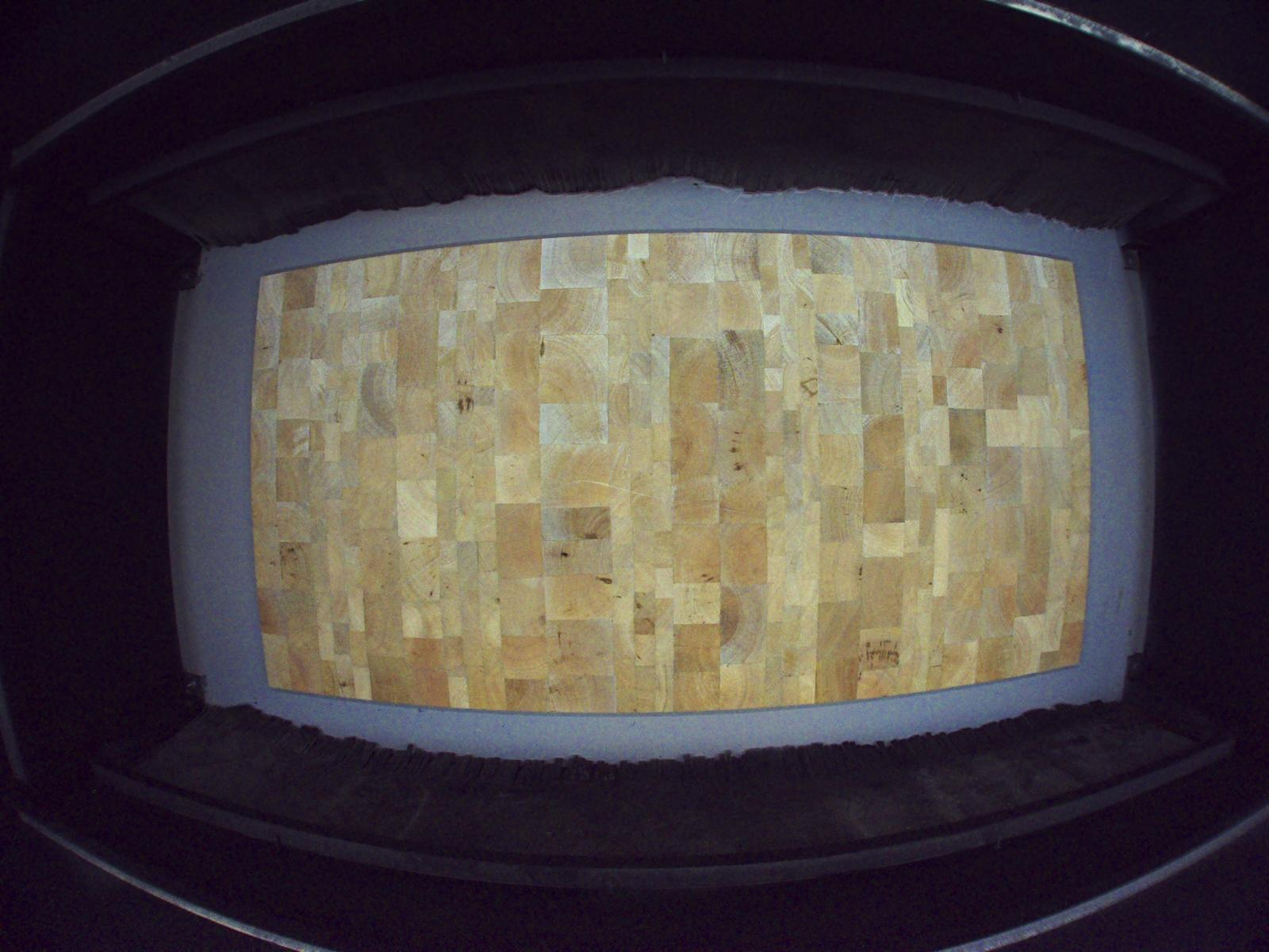sheck_ecuatoriano: (559, 543, 571, 567)
